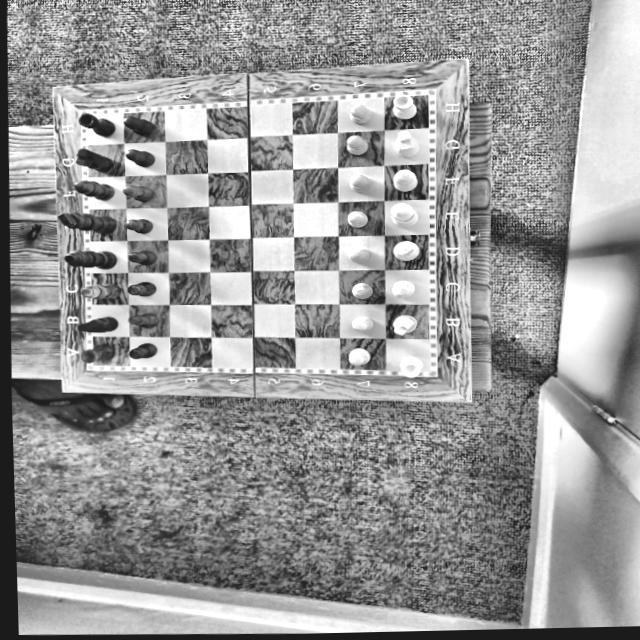black-bishop: (74, 277, 121, 305), (67, 178, 114, 201)
black-king: (50, 203, 114, 237)
black-knight: (68, 309, 119, 339), (67, 145, 113, 175)
black-pawn: (119, 114, 158, 138), (120, 144, 154, 170), (120, 278, 157, 300), (126, 338, 158, 362), (119, 180, 153, 202), (118, 215, 152, 235), (119, 249, 159, 265), (124, 310, 157, 329)
black-queen: (59, 244, 117, 271)
black-rook: (76, 109, 114, 139), (76, 340, 114, 365)
white-bishop: (384, 278, 419, 302), (386, 167, 418, 193)
white-king: (387, 238, 422, 262)
white-knight: (384, 309, 419, 339), (387, 127, 418, 159)
white-pawn: (336, 206, 371, 233), (338, 131, 372, 158), (338, 244, 375, 266), (340, 171, 373, 195), (342, 344, 371, 369), (346, 98, 370, 127), (345, 313, 374, 335), (346, 278, 372, 302)
white-queen: (383, 199, 422, 232)
white-rook: (388, 351, 429, 382), (388, 91, 416, 123)
